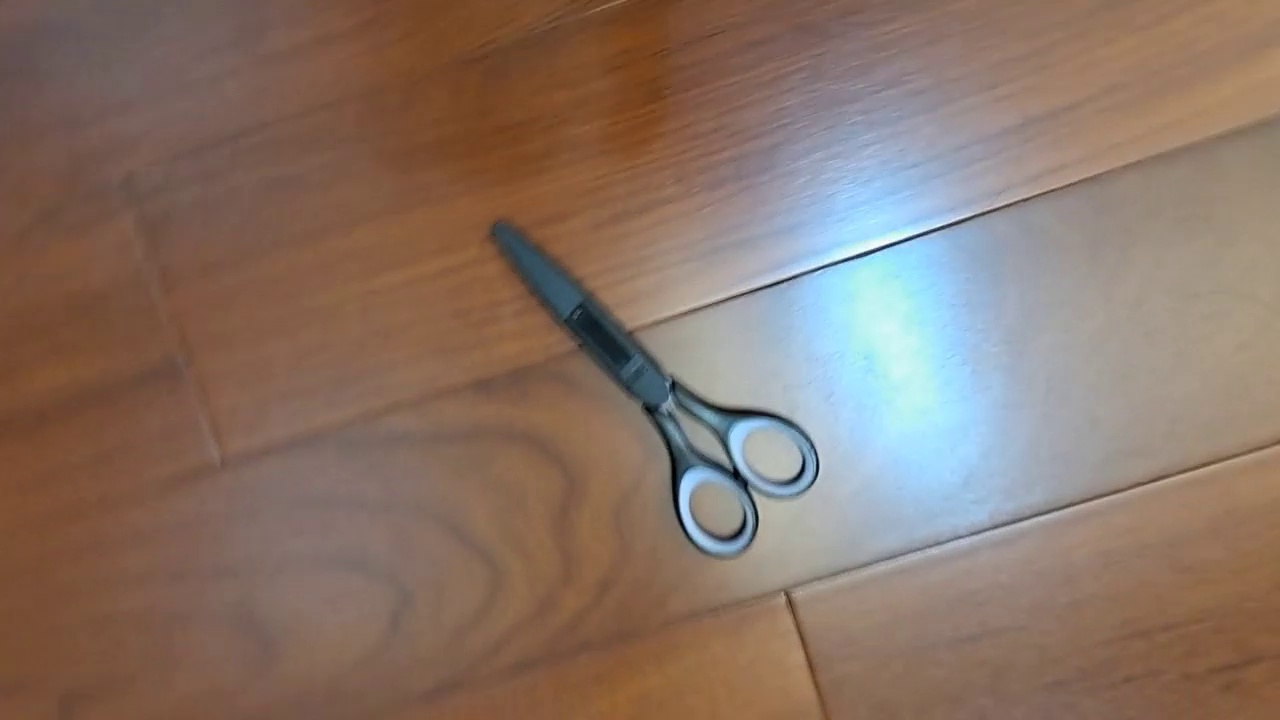scissors: (488, 218, 819, 560)
